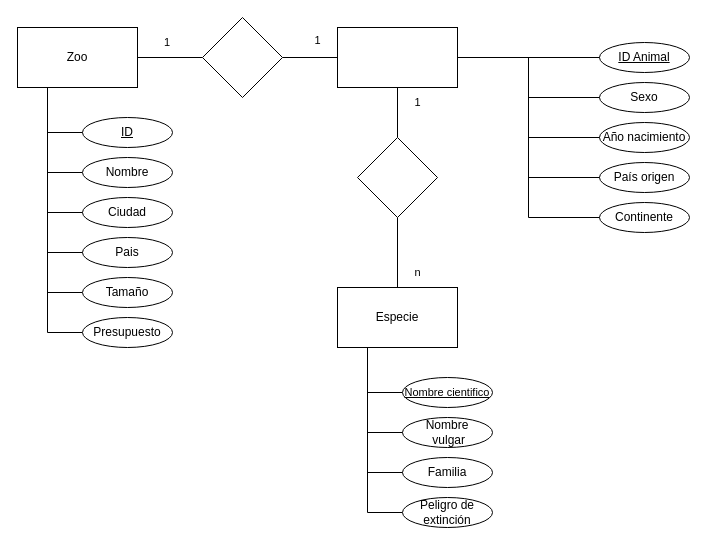
This 707x545 diagram has some shape labels left out. The shapes that lost their labels are listed below. From the top down, each one's centre as x and y in pixels, then its label:
(242,57): Alberga
(397,57): Animal
(397,177): Pertenece a
